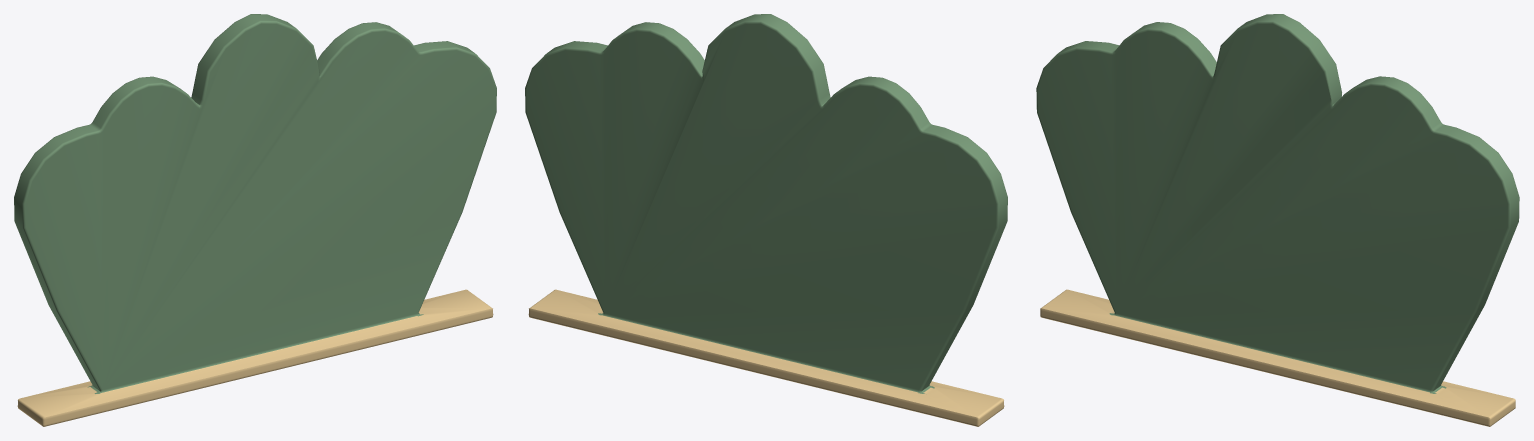
File: deco_bush.fbx
3 renders of one model, left to right at view 1: azimuth 30°, elevation 25°; view 2: azimuth 150°, elevation 25°; view 3: azimuth 330°, elevation 25°, orthographic.
Visible parts, largest first — view 1: deco_bush; view 2: deco_bush; view 3: deco_bush.
Part boxes in pixels (x1,y1,x2,y2): deco_bush: [14, 14, 496, 426]; deco_bush: [525, 14, 1007, 426]; deco_bush: [1036, 14, 1519, 426].
Size of the model in its own units: 210 by 20 by 147.
